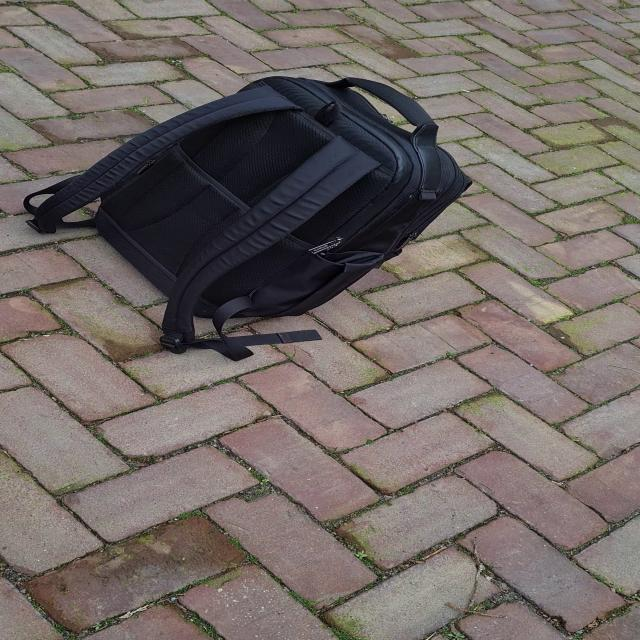backpack: (26, 72, 476, 359)
